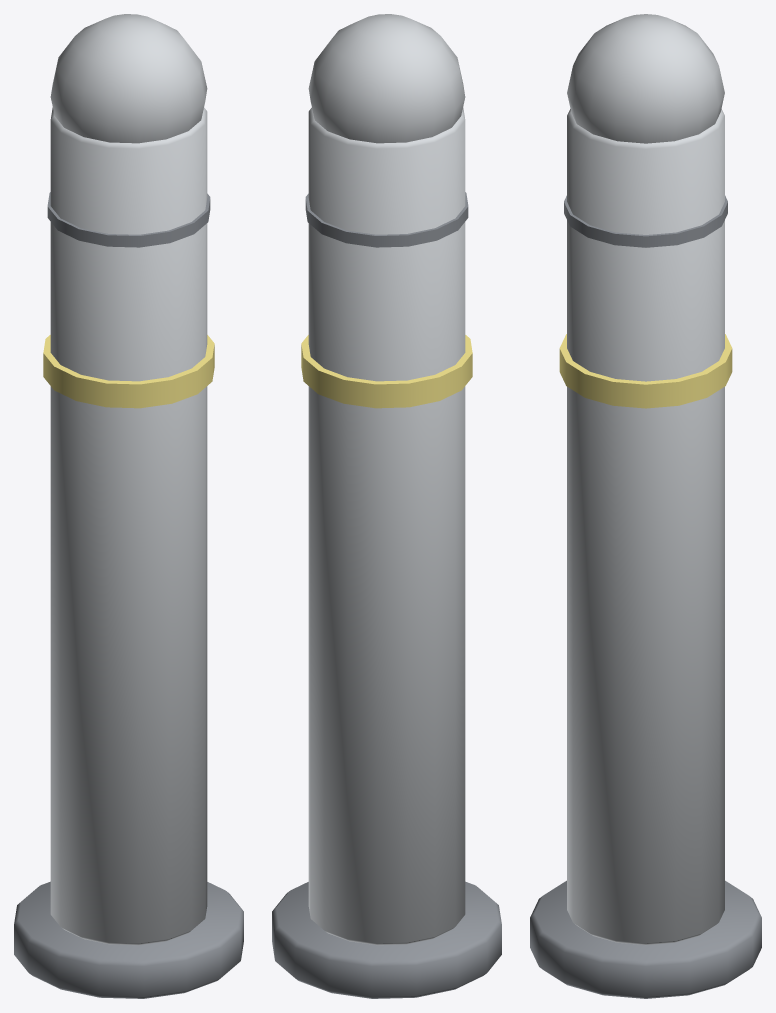
Rendered from Bollard.fbx.
The picture shows the model from 3 angles, left to right: view 1: azimuth 30°, elevation 25°; view 2: azimuth 150°, elevation 25°; view 3: azimuth 270°, elevation 25°; orthographic projection.
Parts seen in each view (by area): view 1: LOD0; view 2: LOD0; view 3: LOD0.
Part boxes in pixels (box(x1,y1,x2,y2)): LOD0: box(14, 14, 243, 998); LOD0: box(272, 14, 501, 998); LOD0: box(530, 14, 761, 998).
Size of what is drawn, in the model's own units: 22 by 97.5 by 22.
